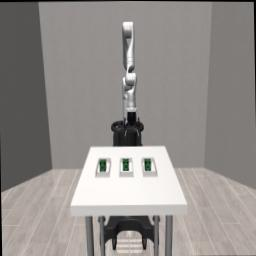cube1: (144, 158, 151, 170)
cube2: (122, 158, 130, 170)
cube3: (99, 159, 106, 172)
